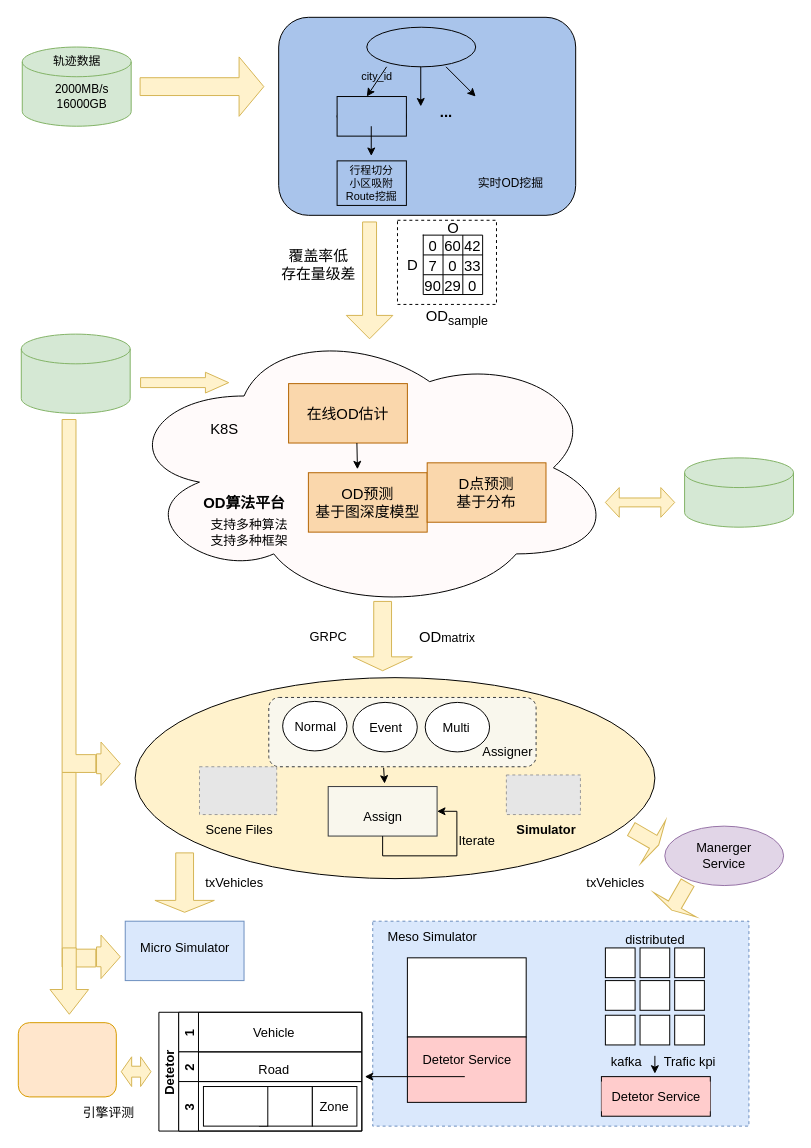
This 811x1148 diagram has some shape labels left out. Grey dashed boxes stand in for pictures. Here are the shapes that lost their labels. From the top down, the centre of each, then its label:
pixel 421 46: topic: rtt_gps_matcher
pixel 371 116: window 轨迹缓存
pixel 75 373: 感知数据 （西青、襄阳...）
pixel 738 492: Redis
pixel 466 997: standalone
pixel 66 1059: Data Process 数据解析 断面计算
pixel 235 1106: Semantic Road
pixel 285 1106: Node
